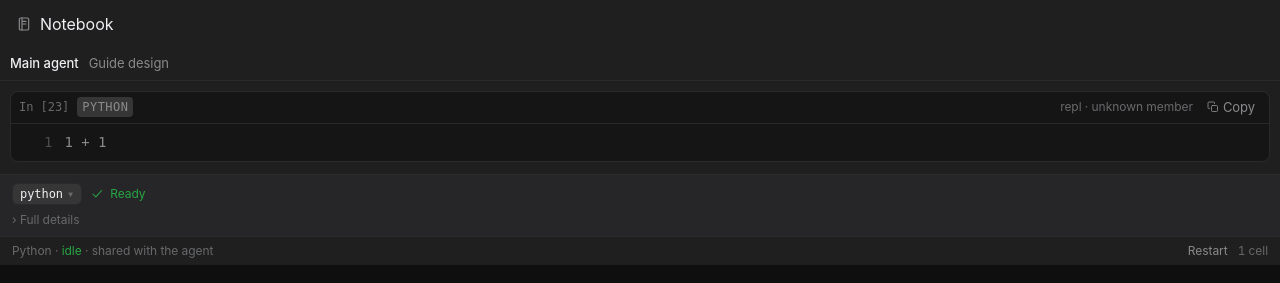
Test: keeps an unbuilt environment of another language selectable, so it can be built
Expected: the message reads "Ready", 110,186 -> 146,200
What coordinates should you click on to do the following:
click the button with aria-label "Kernel environment:"
I would click on:
 (47, 194)
Its box is 12,183 -> 82,205.
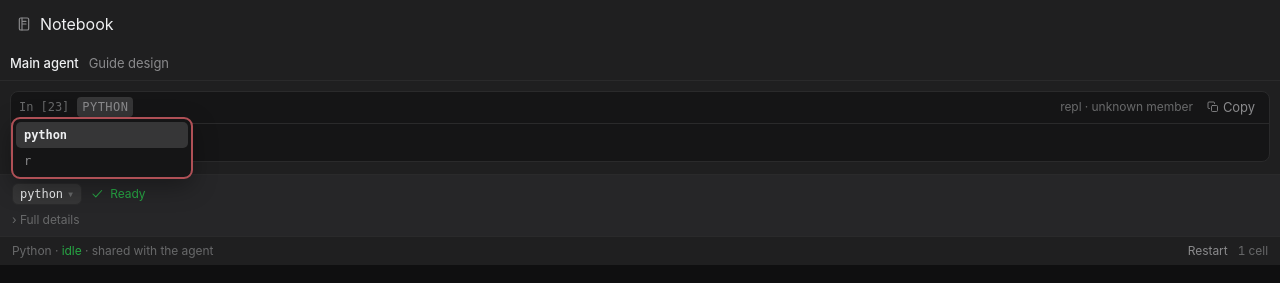
What coordinates should you click on to do the following:
click the option "r"
I would click on:
 (28, 161)
Its box is 24,154 -> 31,168.
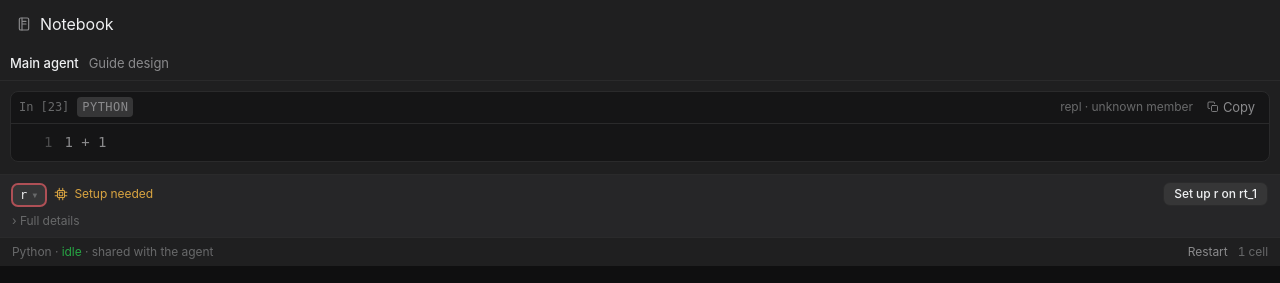
Now the button "Set up r on rt_1" is shown, box 1163,182 -> 1268,206
